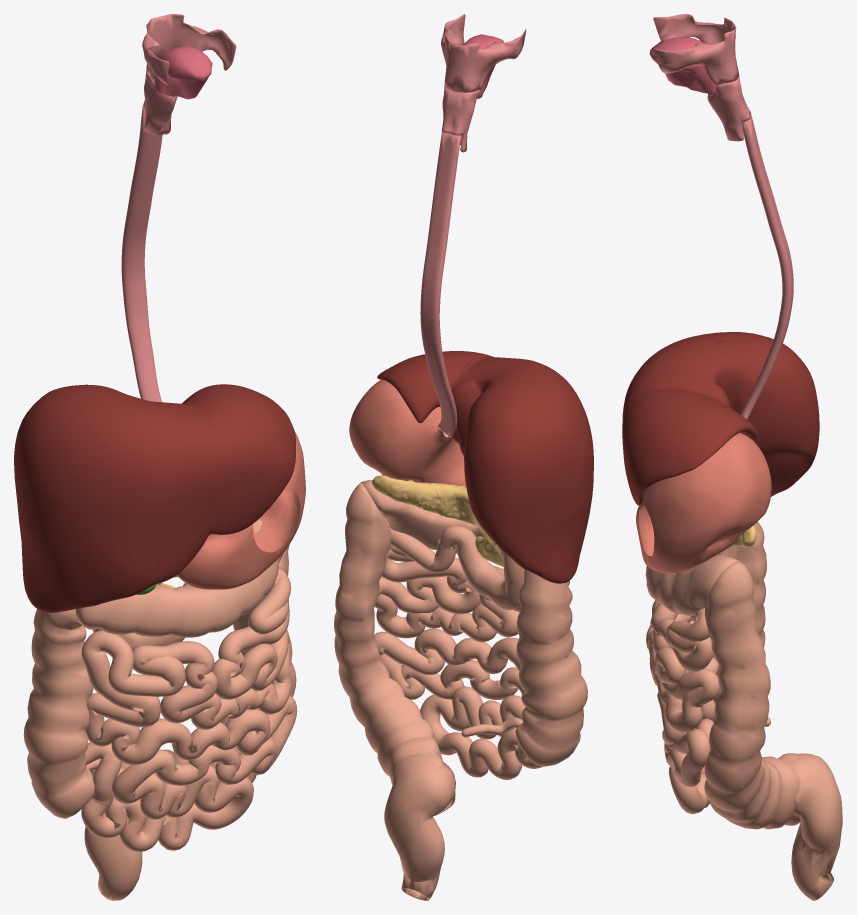
The model's file is sistema-digestivo.glb.
The picture shows the model from 3 angles, left to right: view 1: azimuth 30°, elevation 25°; view 2: azimuth 150°, elevation 25°; view 3: azimuth 270°, elevation 25°; orthographic projection. The views are drawn at different scales.
Visible parts, largest first — view 1: Liver, Jejunum, Ascending colon, Transverse colon, Stomach, Oesophagus, Oropharynx, Sigmoid colon, Tongue, Laryngopharynx, Descending colon, Duodenum; view 2: Liver, Jejunum, Descending colon, Ascending colon, Stomach, Sigmoid colon, Oesophagus, Pancreas, Oropharynx, Duodenum, Transverse colon, Laryngopharynx (+1 smaller); view 3: Liver, Descending colon, Stomach, Jejunum, Sigmoid colon, Oropharynx, Oesophagus, Transverse colon, Laryngopharynx, Ascending colon, Tongue.
Part boxes in pixels (left/top/right/bottom): Liver: left=14, top=384, right=295, bottom=612; Jejunum: left=81, top=569, right=297, bottom=851; Ascending colon: left=23, top=609, right=94, bottom=818; Transverse colon: left=75, top=519, right=282, bottom=637; Stomach: left=177, top=432, right=305, bottom=589; Oesophagus: left=121, top=106, right=162, bottom=402; Oropharynx: left=142, top=14, right=236, bottom=84; Sigmoid colon: left=84, top=768, right=142, bottom=900; Tongue: left=154, top=45, right=212, bottom=99; Laryngopharynx: left=143, top=71, right=177, bottom=135; Descending colon: left=120, top=544, right=296, bottom=800; Duodenum: left=92, top=583, right=189, bottom=650; Liver: left=377, top=351, right=593, bottom=583; Jejunum: left=374, top=528, right=542, bottom=779; Descending colon: left=334, top=482, right=455, bottom=815; Ascending colon: left=515, top=569, right=587, bottom=766; Stomach: left=349, top=379, right=466, bottom=486; Sigmoid colon: left=384, top=754, right=455, bottom=900; Oesophagus: left=420, top=132, right=461, bottom=437; Pancreas: left=372, top=475, right=503, bottom=566; Oropharynx: left=441, top=14, right=526, bottom=92; Duodenum: left=439, top=525, right=524, bottom=610; Transverse colon: left=361, top=480, right=487, bottom=560; Laryngopharynx: left=441, top=86, right=479, bottom=152; Liver: left=622, top=332, right=819, bottom=505; Descending colon: left=704, top=561, right=800, bottom=829; Stomach: left=636, top=432, right=771, bottom=573; Jejunum: left=646, top=600, right=720, bottom=813; Sigmoid colon: left=789, top=753, right=842, bottom=900; Oropharynx: left=653, top=14, right=739, bottom=85; Oesophagus: left=740, top=112, right=793, bottom=419; Transverse colon: left=645, top=555, right=739, bottom=615; Laryngopharynx: left=707, top=76, right=750, bottom=141; Ascending colon: left=713, top=521, right=766, bottom=703; Tongue: left=649, top=37, right=717, bottom=95.
Bounding box in the file's own units: 0.229 × 0.7487 × 0.171.
